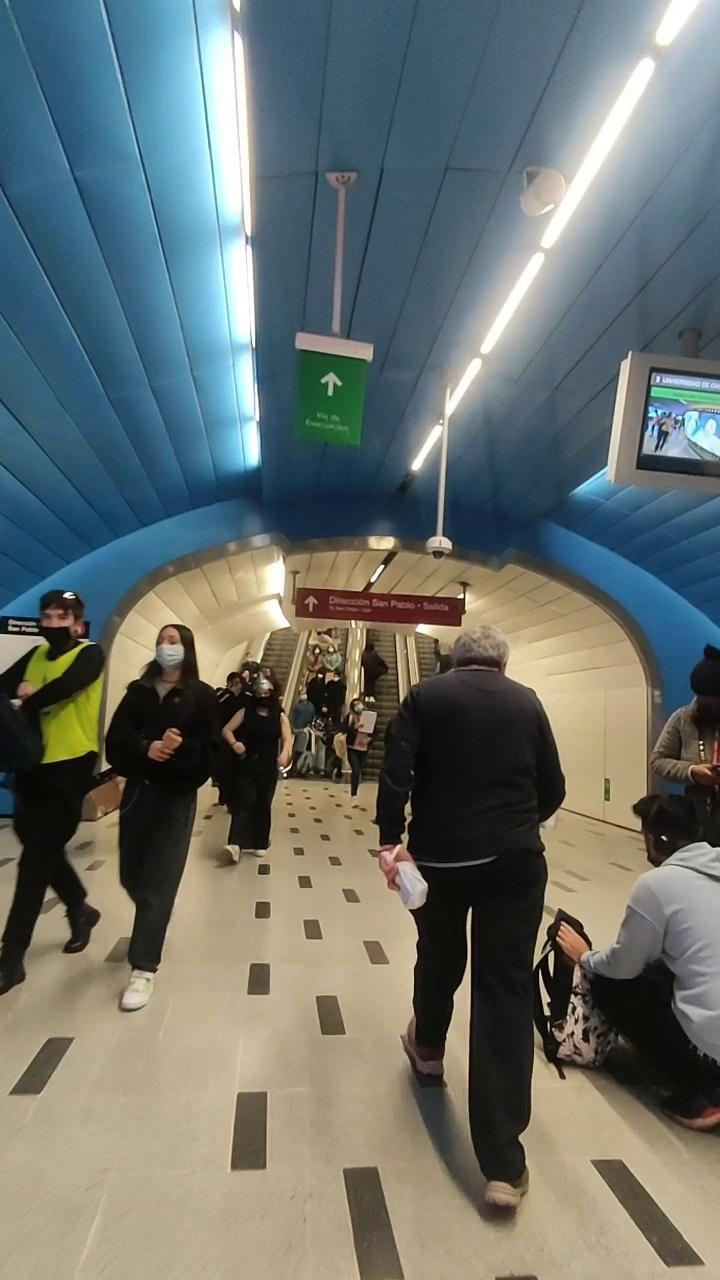up arrow: (302, 592, 324, 616)
